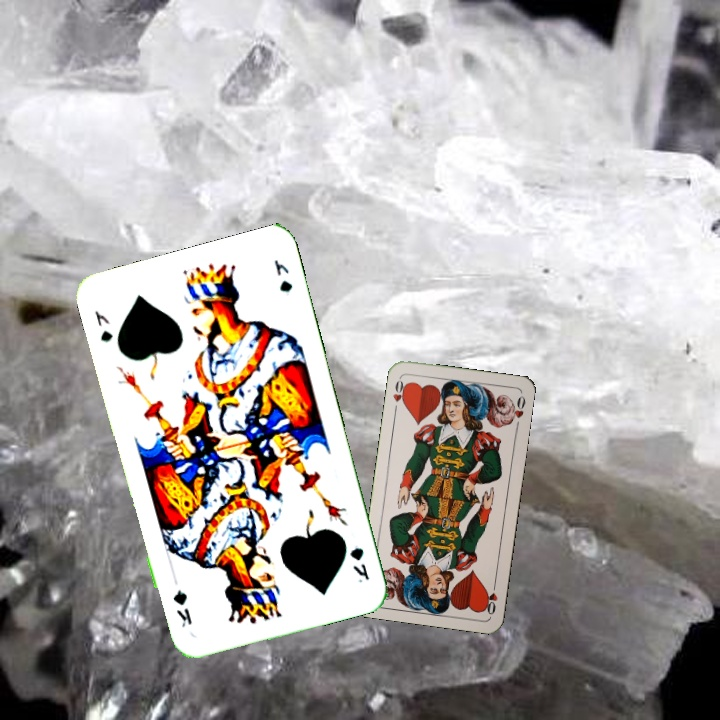GK: (345, 543, 372, 583), (90, 306, 116, 345)
HO: (389, 374, 410, 415), (480, 577, 500, 617)
